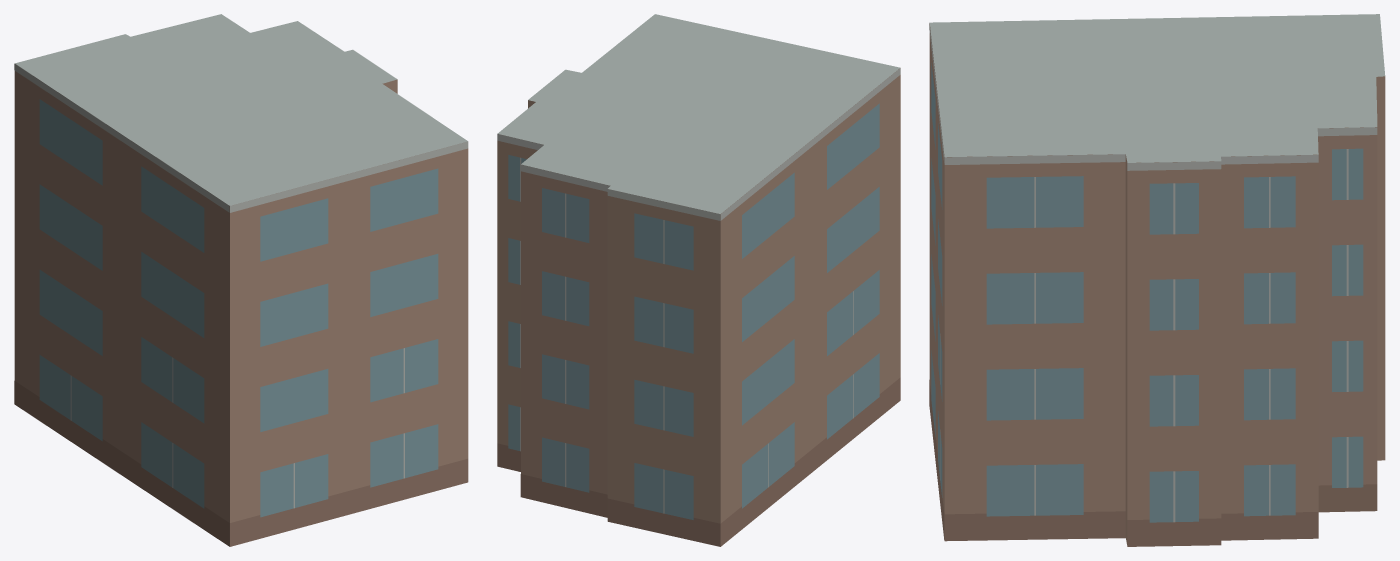
Rendered from survey-upis-32805367.glb.
3 views of the same model, side by side, from view 1: azimuth 30°, elevation 25°; view 2: azimuth 150°, elevation 25°; view 3: azimuth 270°, elevation 25° (orthographic). The views are drawn at different scales.
Parts seen in each view (by area): view 1: survey-upis-32805367.tmp; view 2: survey-upis-32805367.tmp; view 3: survey-upis-32805367.tmp.
Boxes of the visible parts, <box> form: survey-upis-32805367.tmp: <box>14,14,468,546</box>; survey-upis-32805367.tmp: <box>497,14,900,546</box>; survey-upis-32805367.tmp: <box>929,14,1385,546</box>.
Bounding box in the file's own units: 9.85 × 11.83 × 12.73.
